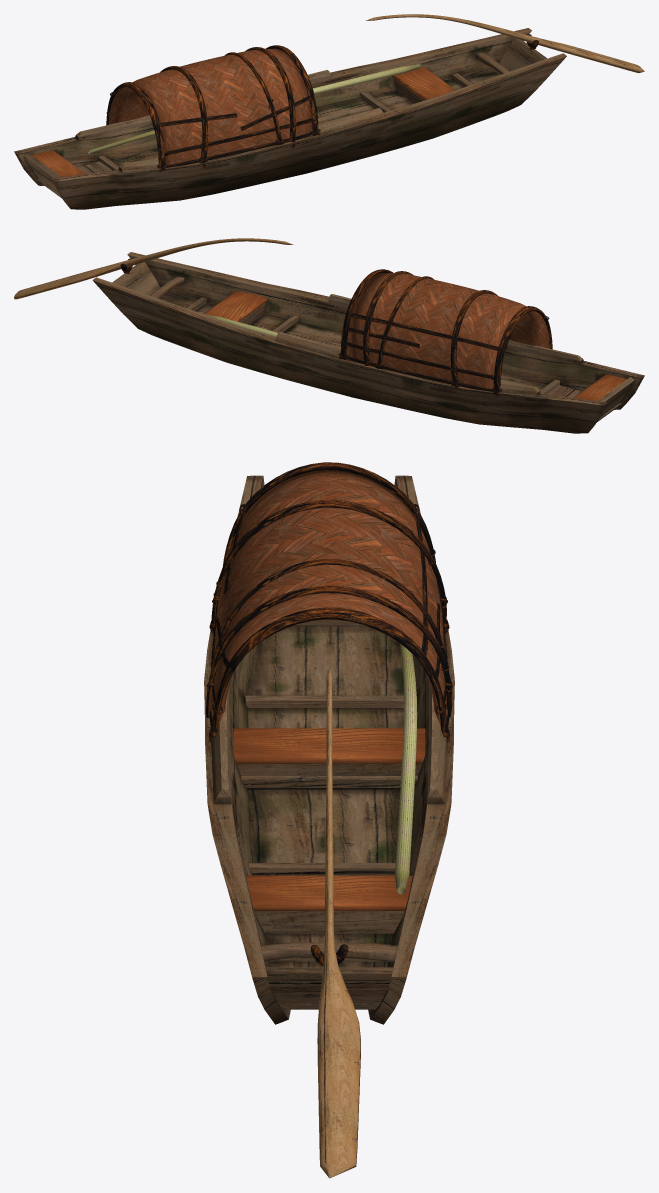
File: chuan.fbx
The picture shows the model from 3 angles, top to bottom: view 1: azimuth 30°, elevation 25°; view 2: azimuth 150°, elevation 25°; view 3: azimuth 270°, elevation 25°; orthographic projection. The views are drawn at different scales.
Visible parts, largest first — view 1: polySurface20, nurbsToPoly4, nurbsToPoly33, nurbsToPoly41, nurbsToPoly1, nurbsToPoly34, nurbsToPoly49, nurbsToPoly3, nurbsToPoly40, nurbsToPoly50, nurbsToPoly38, nurbsToPoly39 (+3 smaller); view 2: polySurface20, nurbsToPoly4, nurbsToPoly33, nurbsToPoly1, nurbsToPoly34, nurbsToPoly3, nurbsToPoly49, nurbsToPoly40, nurbsToPoly50, nurbsToPoly42, nurbsToPoly63, nurbsToPoly64 (+3 smaller); view 3: polySurface20, nurbsToPoly4, nurbsToPoly33, nurbsToPoly2, nurbsToPoly1, nurbsToPoly50, nurbsToPoly41, nurbsToPoly40, nurbsToPoly49, nurbsToPoly34, nurbsToPoly48.
Boxes of the visible parts, <box> form: polySurface20: <box>14,28,566,209</box>; nurbsToPoly4: <box>109,49,312,164</box>; nurbsToPoly33: <box>365,14,644,73</box>; nurbsToPoly41: <box>88,64,420,153</box>; nurbsToPoly1: <box>392,67,455,100</box>; nurbsToPoly34: <box>106,82,165,168</box>; nurbsToPoly49: <box>160,66,207,167</box>; nurbsToPoly3: <box>32,150,84,176</box>; nurbsToPoly40: <box>245,47,295,147</box>; nurbsToPoly50: <box>266,45,318,132</box>; nurbsToPoly38: <box>167,118,312,154</box>; nurbsToPoly39: <box>166,132,313,167</box>; polySurface20: <box>92,252,644,433</box>; nurbsToPoly4: <box>346,273,549,388</box>; nurbsToPoly33: <box>14,238,293,299</box>; nurbsToPoly1: <box>204,291,267,321</box>; nurbsToPoly34: <box>493,306,552,396</box>; nurbsToPoly3: <box>574,374,626,400</box>; nurbsToPoly49: <box>450,290,497,385</box>; nurbsToPoly40: <box>363,271,413,365</box>; nurbsToPoly50: <box>340,269,392,358</box>; nurbsToPoly42: <box>351,313,498,350</box>; nurbsToPoly63: <box>347,342,491,378</box>; nurbsToPoly64: <box>346,357,493,391</box>; polySurface20: <box>204,475,454,1024</box>; nurbsToPoly4: <box>211,470,447,727</box>; nurbsToPoly33: <box>317,668,360,1178</box>; nurbsToPoly2: <box>233,728,425,763</box>; nurbsToPoly1: <box>246,875,412,910</box>; nurbsToPoly50: <box>212,607,446,732</box>; nurbsToPoly41: <box>394,643,417,894</box>; nurbsToPoly40: <box>206,585,452,717</box>; nurbsToPoly49: <box>211,500,446,631</box>; nurbsToPoly34: <box>223,462,435,565</box>; nurbsToPoly48: <box>210,559,447,673</box>.
Size of the model in its own units: 57.64 by 11.22 by 10.27.
